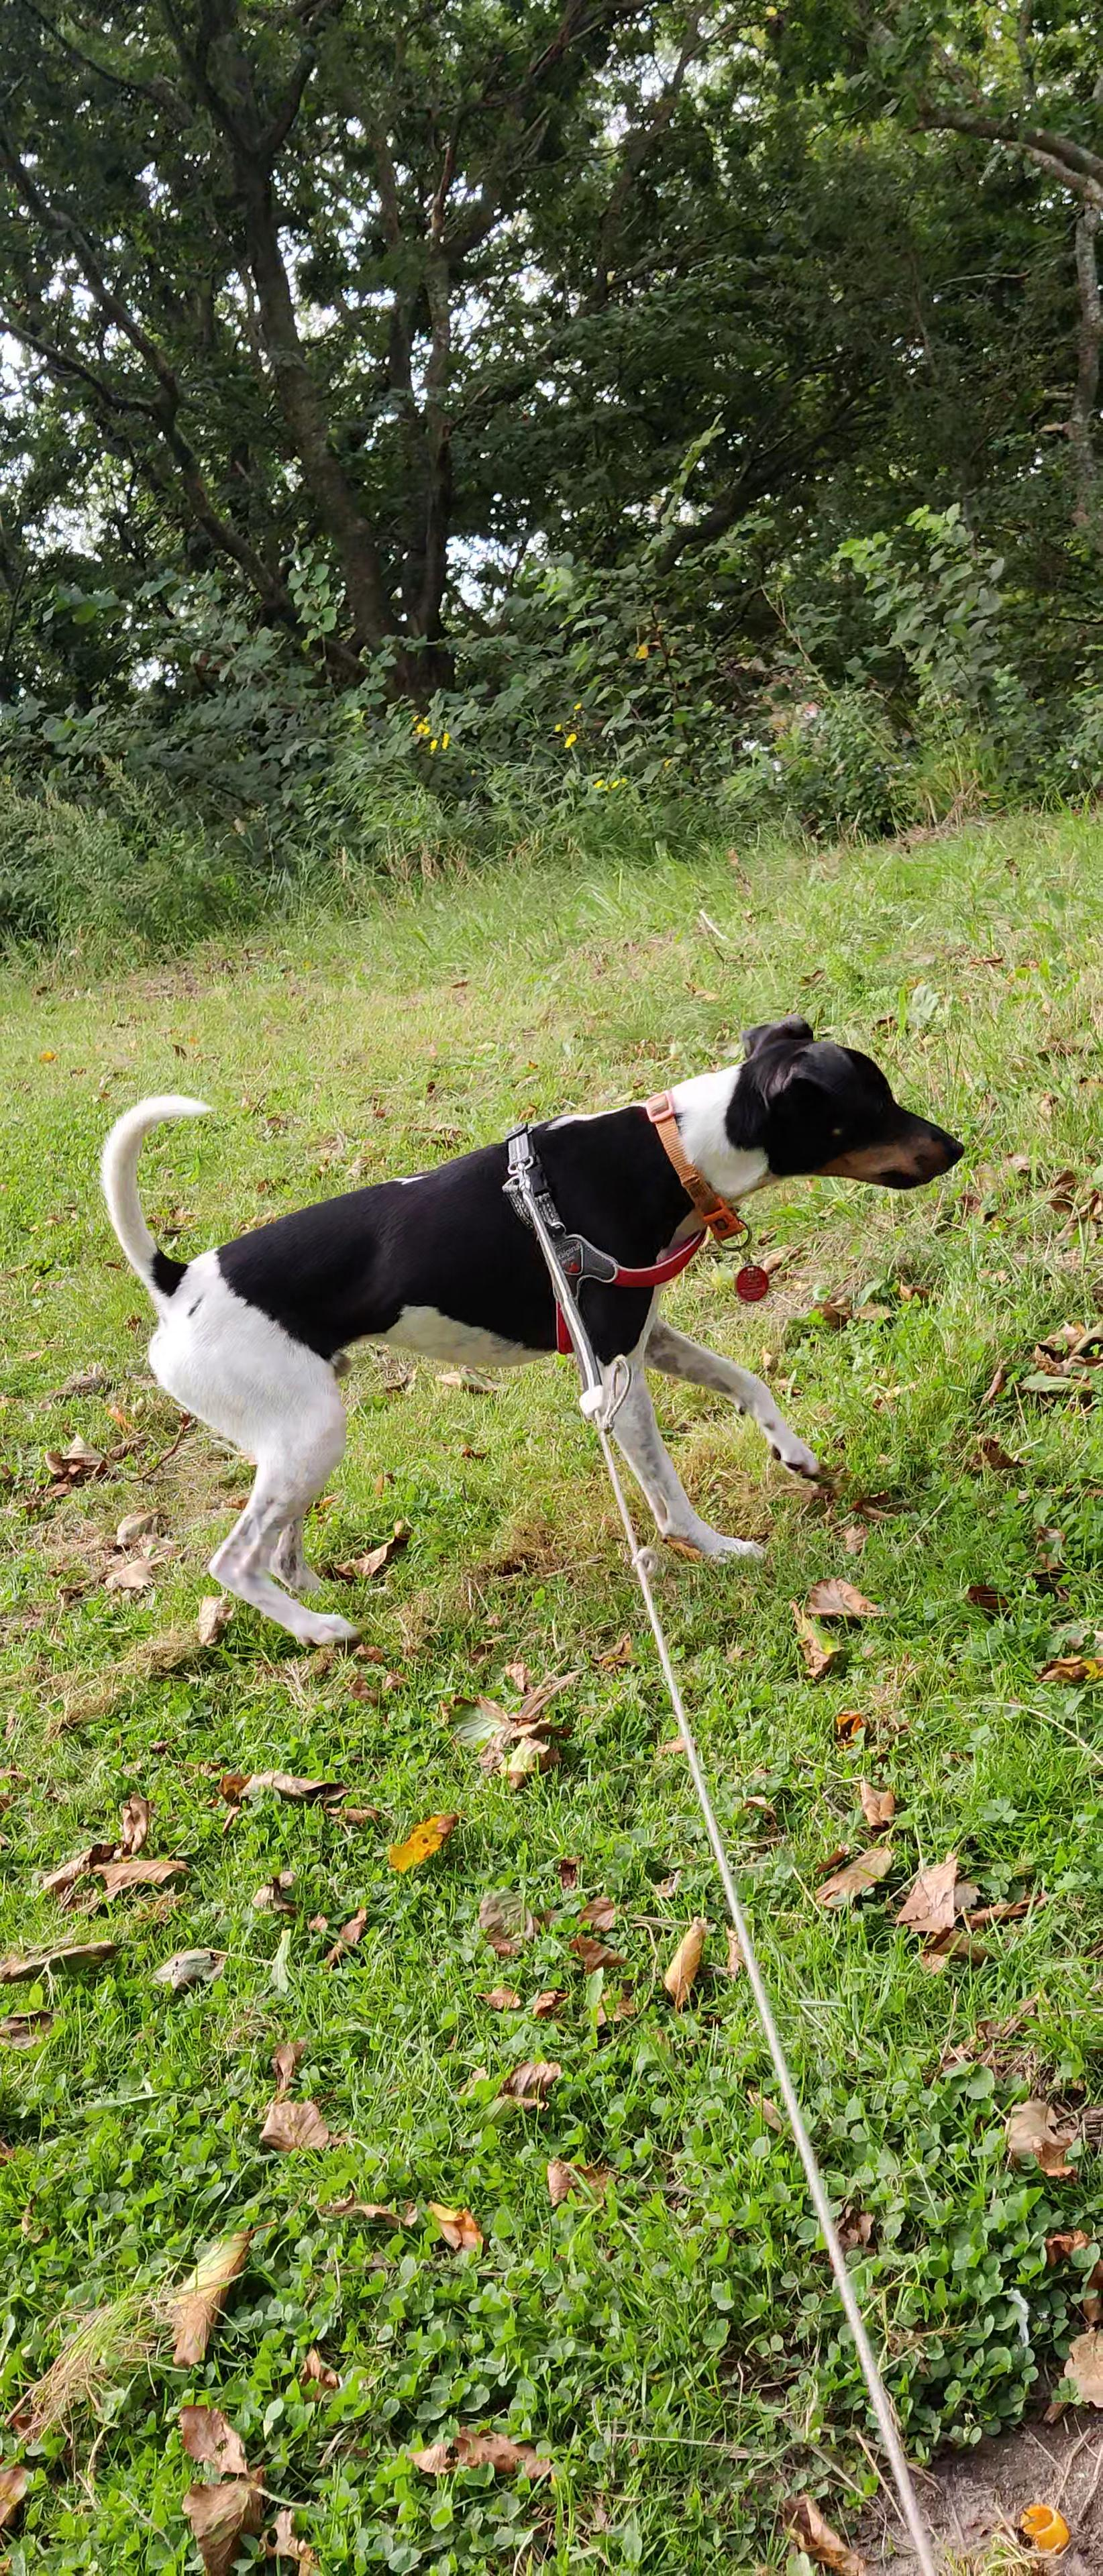Dog: (76, 1007, 985, 1658)
